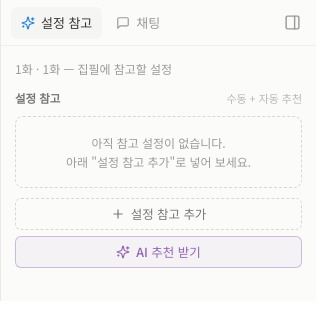
Scenario: MemoryPanel · ChatTab › 이력이 있으면 말풍선으로 복원한다
Click the button "채팅": (138, 22) x1=106 y1=6 x2=170 y2=38
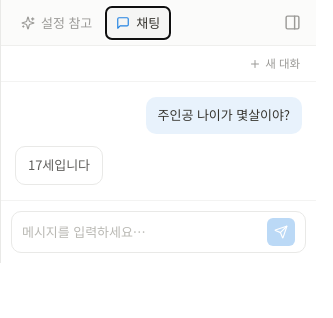
Result: the text "주인공 나이가 몇살이야?" is shown at x1=146 y1=97 x2=302 y2=134
Result: the text "17세입니다" is shown at x1=28 y1=155 x2=90 y2=176
